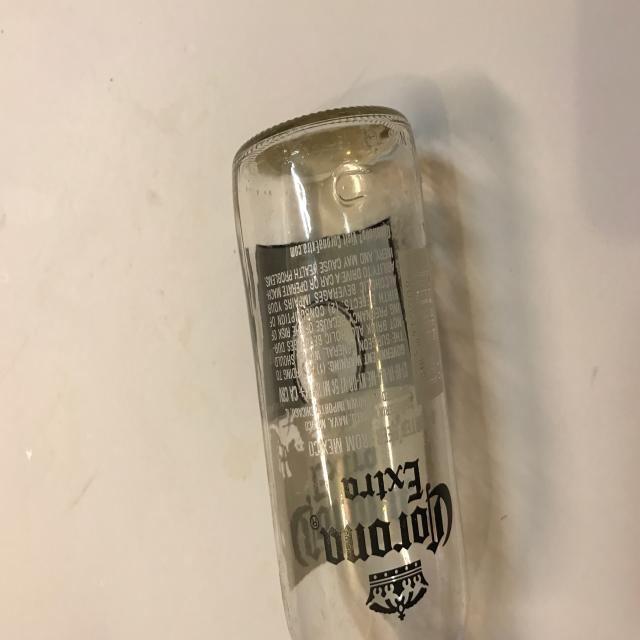glass: (230, 103, 469, 640)
